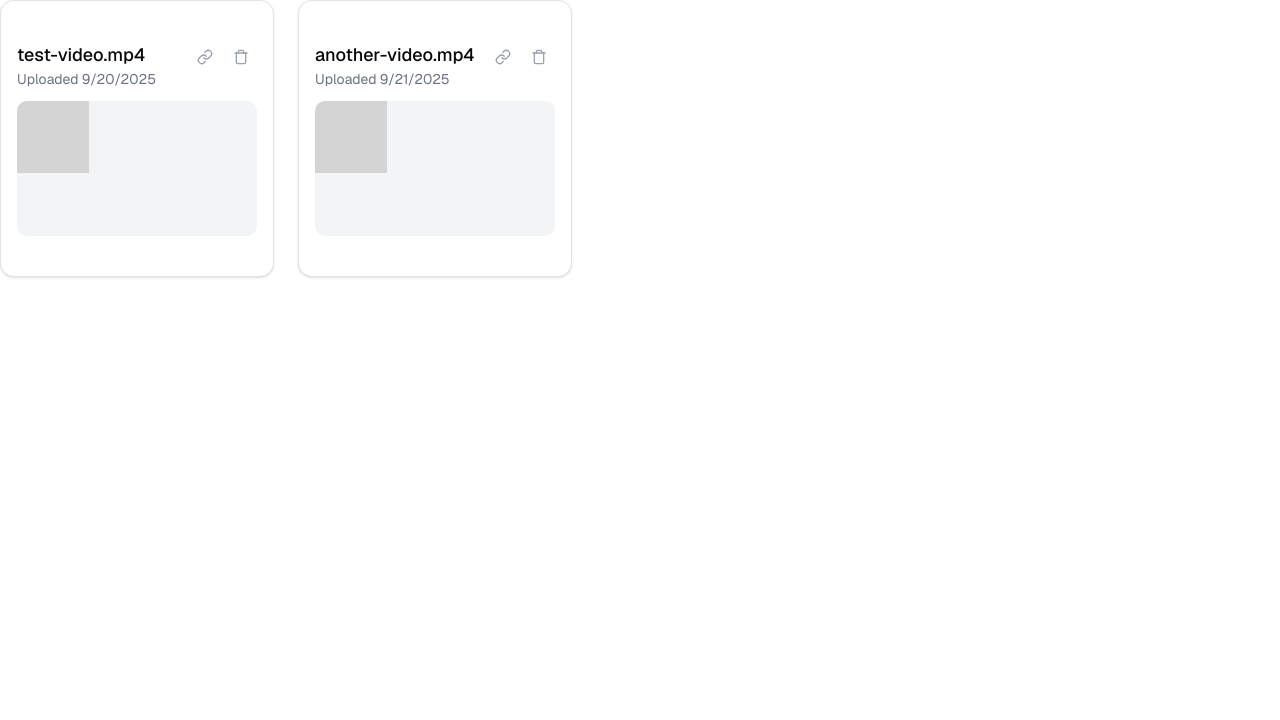
Test: VideoGrid › Delete functionality › disables buttons during deletion process
The width and height of the screenshot is (1280, 720).
// Open dialog
Click the button titled "Delete \"test-video.mp4\"".
click(241, 57)  # box [225,41,257,73]
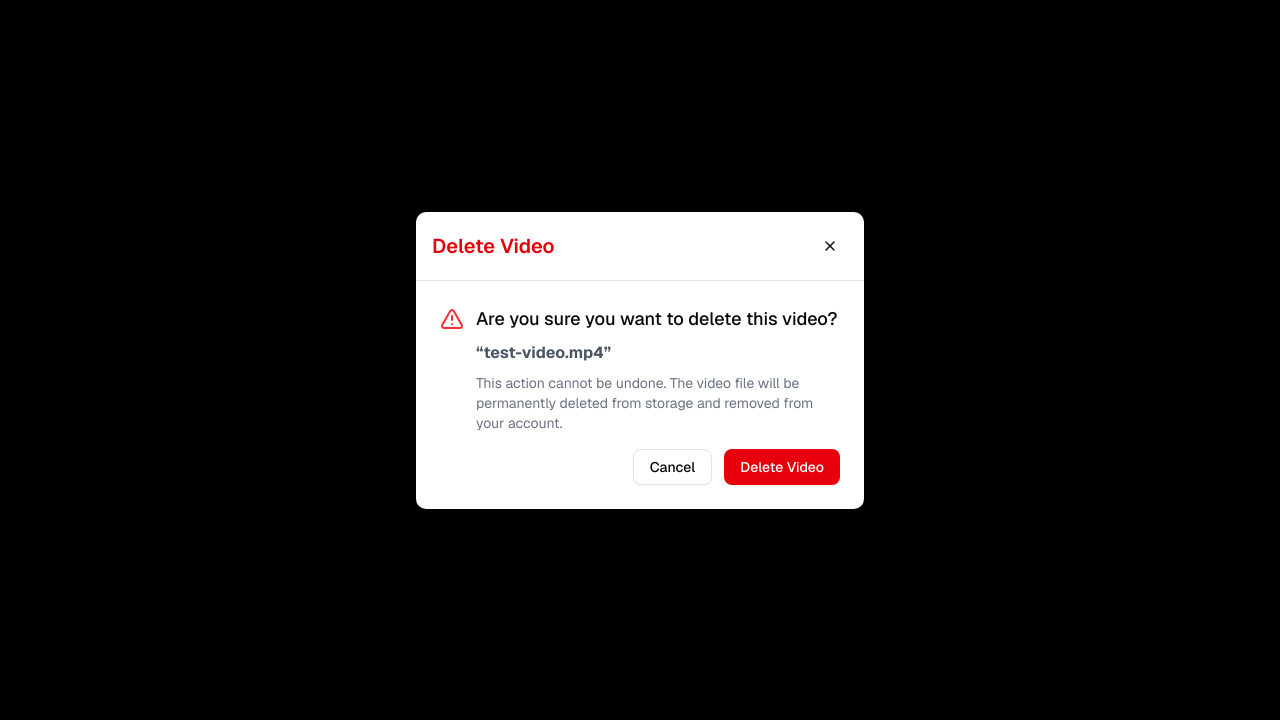
// Confirm deletion (heading also says "Delete Video")
Click the button "Delete Video".
click(782, 466)  # box [724,448,840,484]
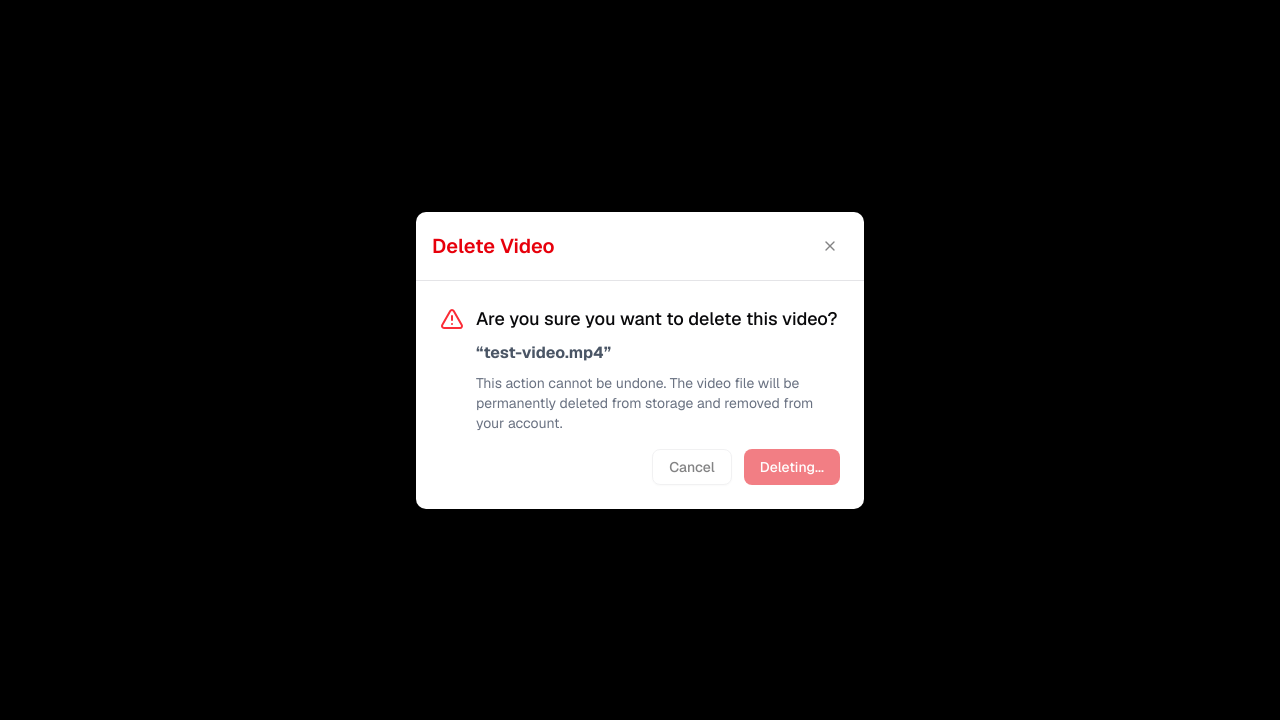
Now the button "Deleting..." is shown, box [744,448,840,484]
Now the button "Cancel" is disabled, box [652,448,732,484]
